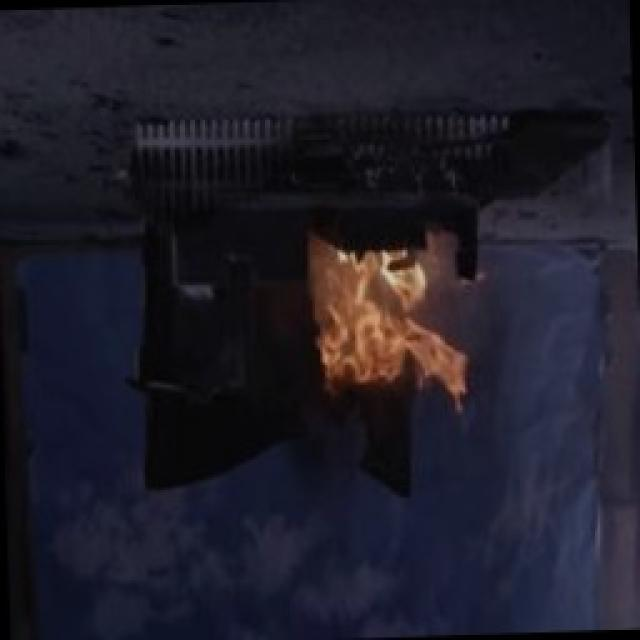fire: (290, 216, 492, 426)
